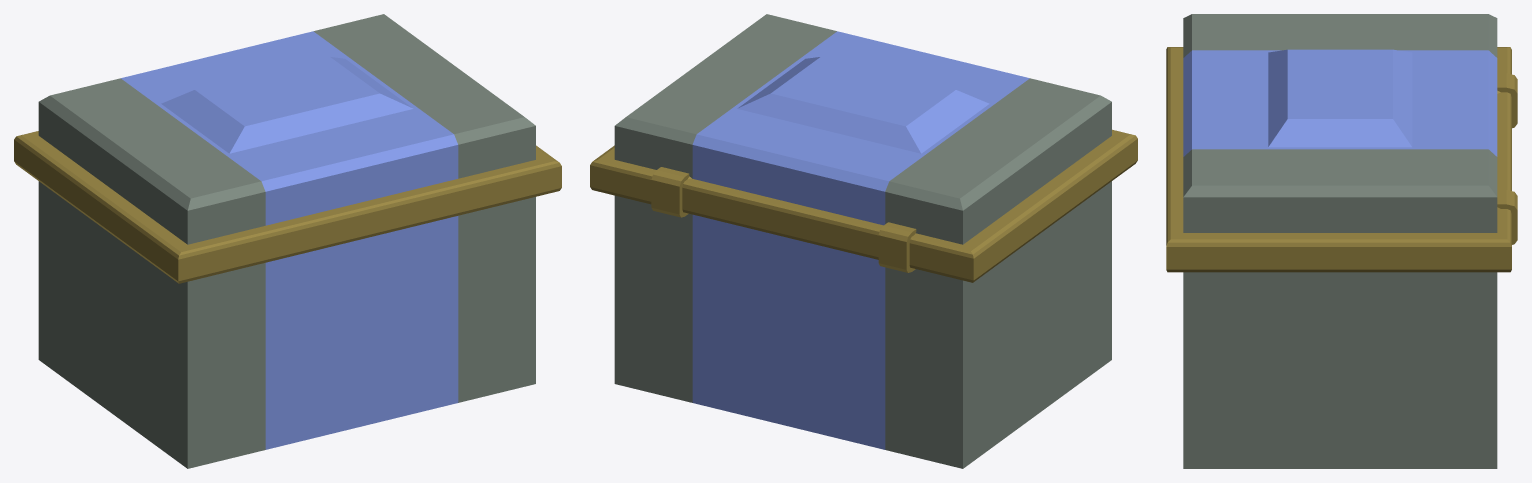
3 renders of one model, left to right at view 1: azimuth 30°, elevation 25°; view 2: azimuth 150°, elevation 25°; view 3: azimuth 270°, elevation 25°, orthographic. The views are drawn at different scales.
Parts seen in each view (by area): view 1: Cube; view 2: Cube; view 3: Cube.
Part boxes in pixels (x1,y1,x2,y2): Cube: (14,14,561,468); Cube: (590,14,1137,468); Cube: (1166,14,1517,468).
Size of the model in its own units: 220 by 154 by 166.
